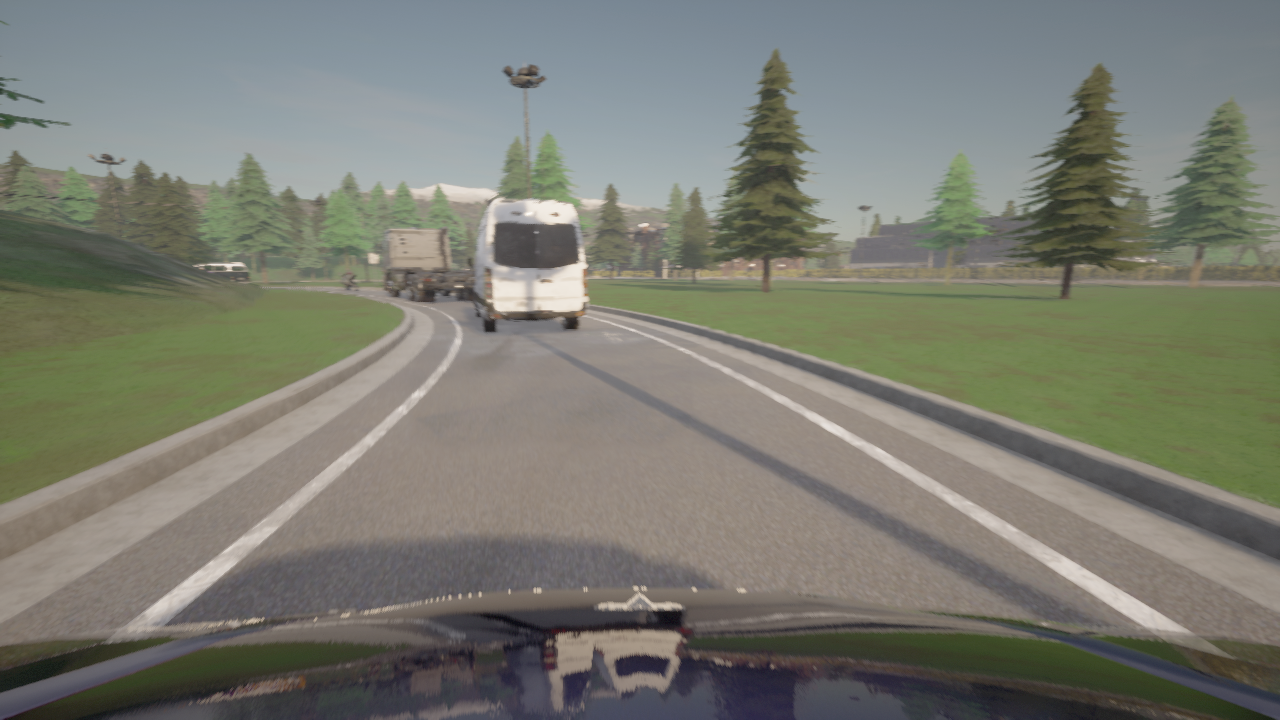cyclist: (0, 588, 1279, 719), (466, 199, 587, 332), (376, 227, 474, 302), (195, 263, 250, 283), (339, 273, 359, 291)
